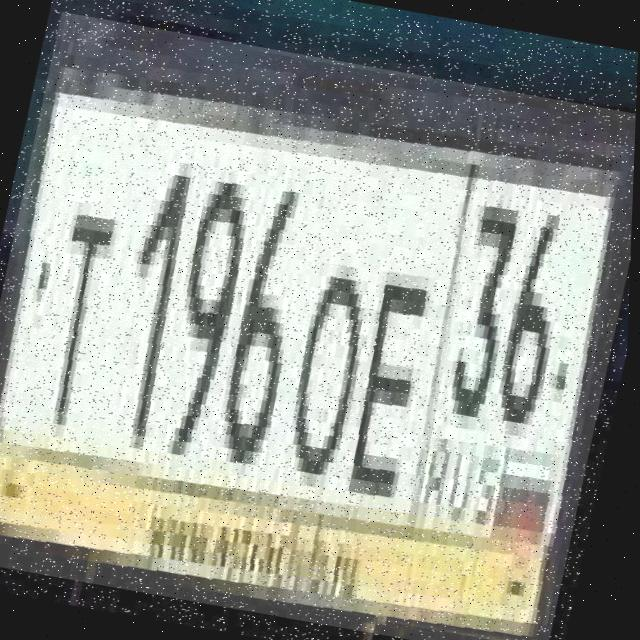LicensePlate: (0, 11, 640, 640)
